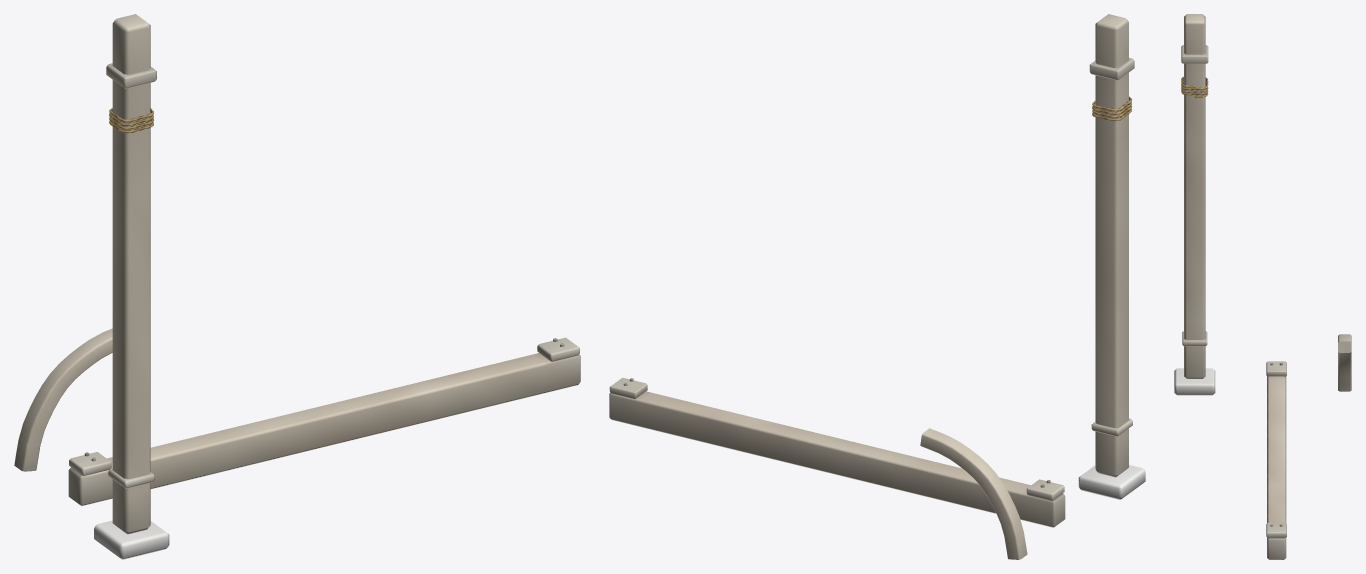
The model's file is port-timber.d8543c19.glb.
3 renders of one model, left to right at view 1: azimuth 30°, elevation 25°; view 2: azimuth 150°, elevation 25°; view 3: azimuth 270°, elevation 25°, orthographic. The views are drawn at different scales.
Parts seen in each view (by area): view 1: post, beam, brace; view 2: post, beam, brace; view 3: post, beam, brace.
Boxes of the visible parts, left/top/right/bottom form: post: left=94, top=14, right=169, bottom=559; beam: left=68, top=337, right=580, bottom=506; brace: left=14, top=328, right=112, bottom=471; post: left=1078, top=14, right=1145, bottom=499; beam: left=609, top=377, right=1065, bottom=527; brace: left=920, top=428, right=1027, bottom=559; post: left=1174, top=14, right=1215, bottom=395; beam: left=1266, top=361, right=1286, bottom=559; brace: left=1338, top=334, right=1351, bottom=391.
Size of the model in its own units: 3.15 by 3.01 by 1.3.
